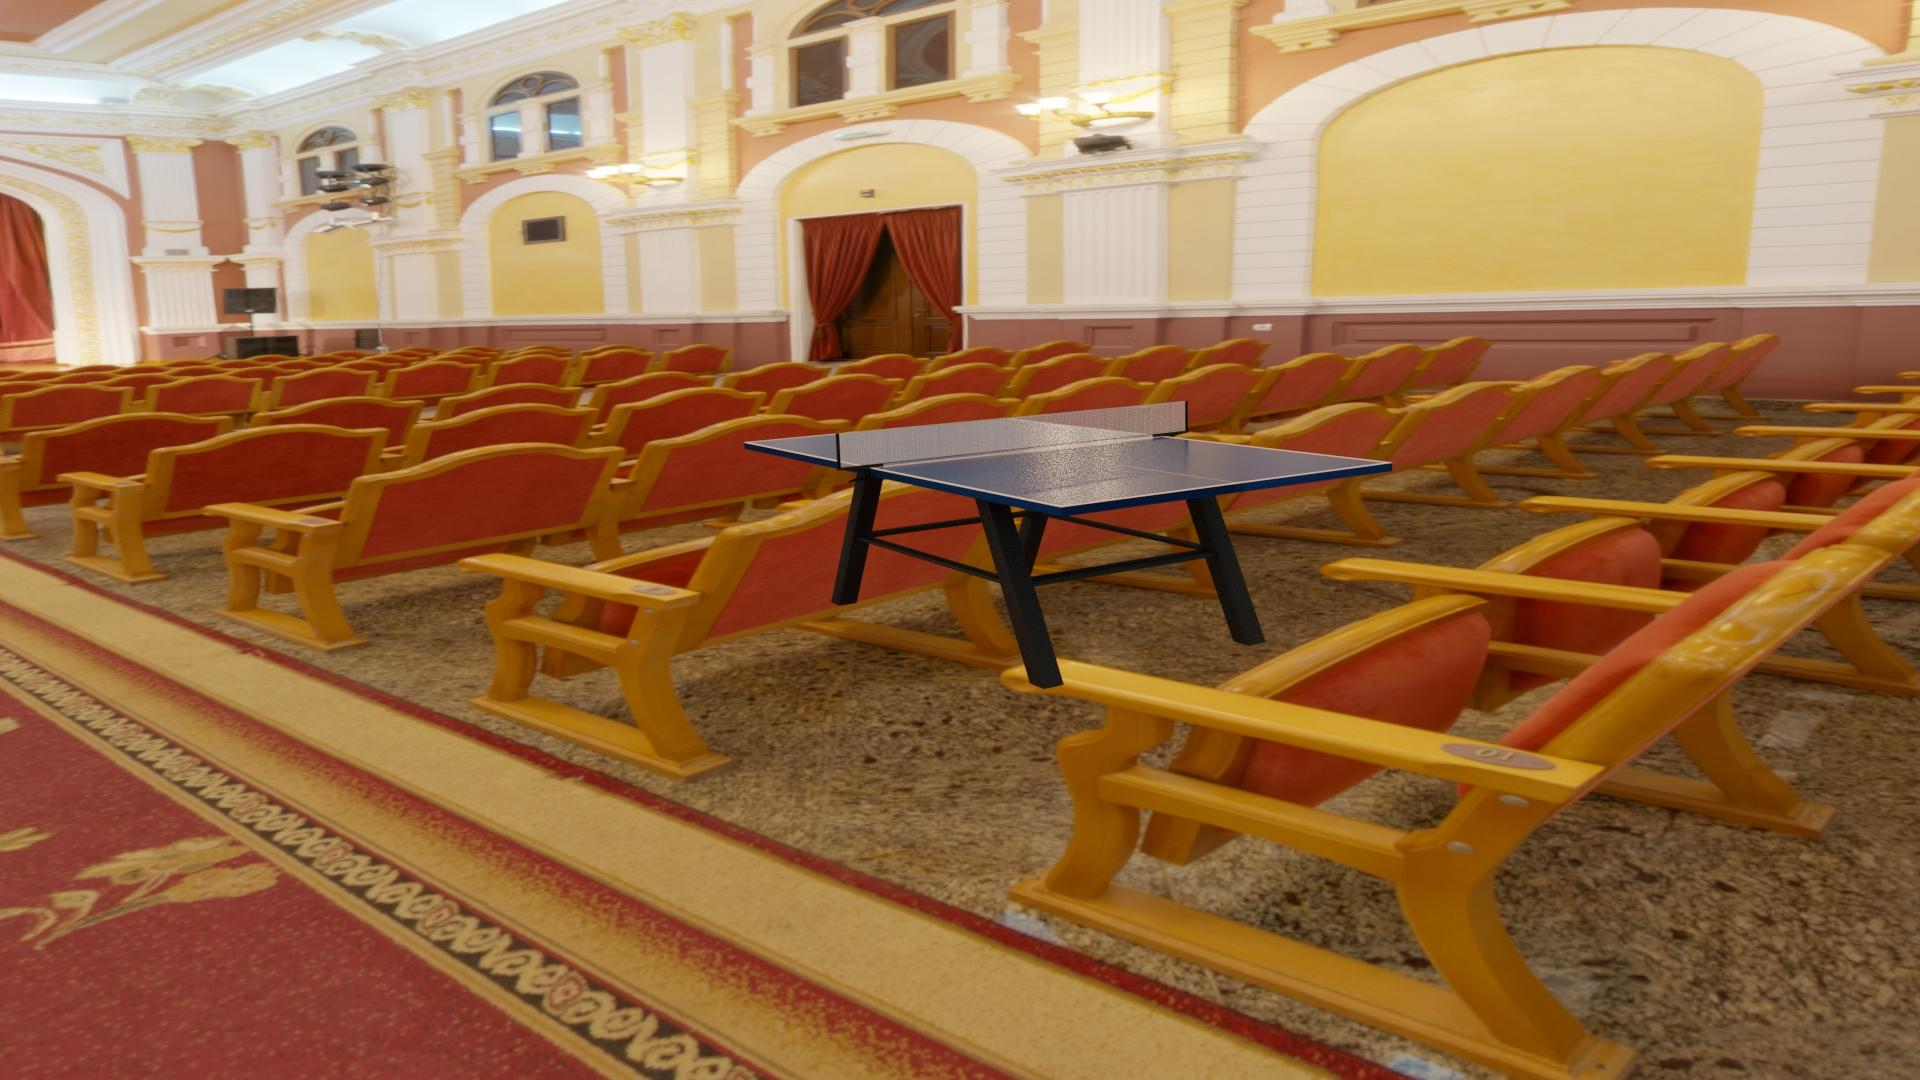table: (749, 418, 1385, 506)
